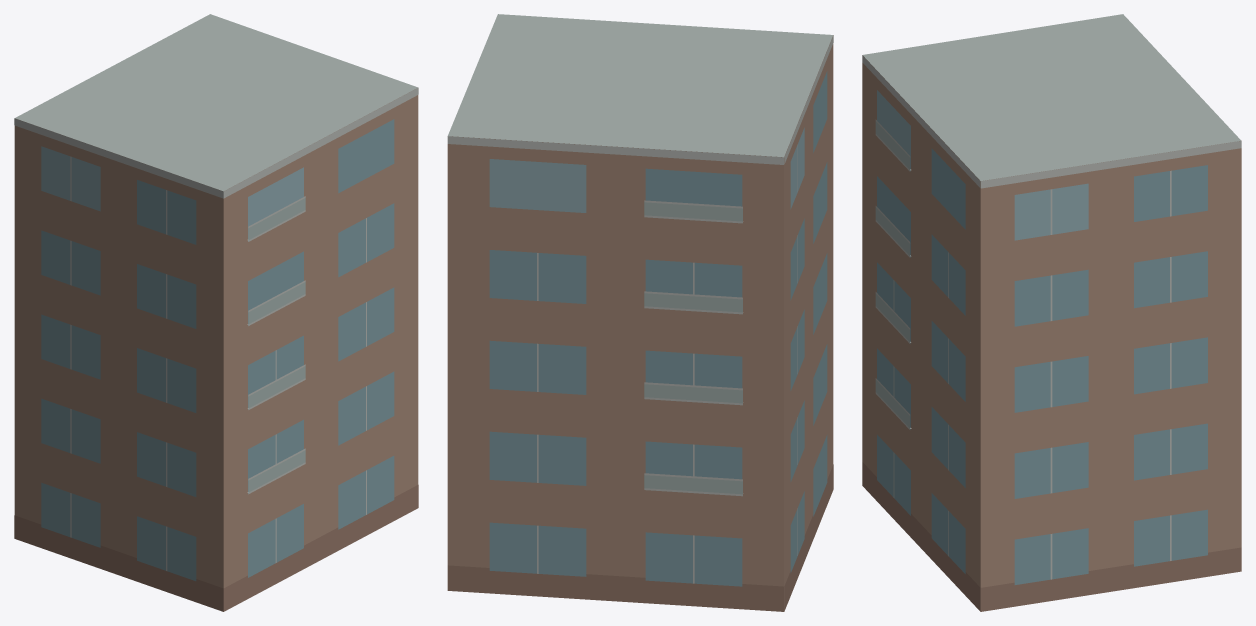
Rendered from survey-upis-32856920.glb.
3 views of the same model, side by side, from view 1: azimuth 30°, elevation 25°; view 2: azimuth 150°, elevation 25°; view 3: azimuth 270°, elevation 25° (orthographic). The views are drawn at different scales.
Visible parts, largest first — view 1: survey-upis-32856920.tmp; view 2: survey-upis-32856920.tmp; view 3: survey-upis-32856920.tmp.
Boxes of the visible parts, left/top/right/bottom form: survey-upis-32856920.tmp: left=14, top=14, right=418, bottom=611; survey-upis-32856920.tmp: left=447, top=14, right=833, bottom=611; survey-upis-32856920.tmp: left=862, top=14, right=1241, bottom=611.
Size of the model in its own units: 11.74 by 14.1 by 11.26.
